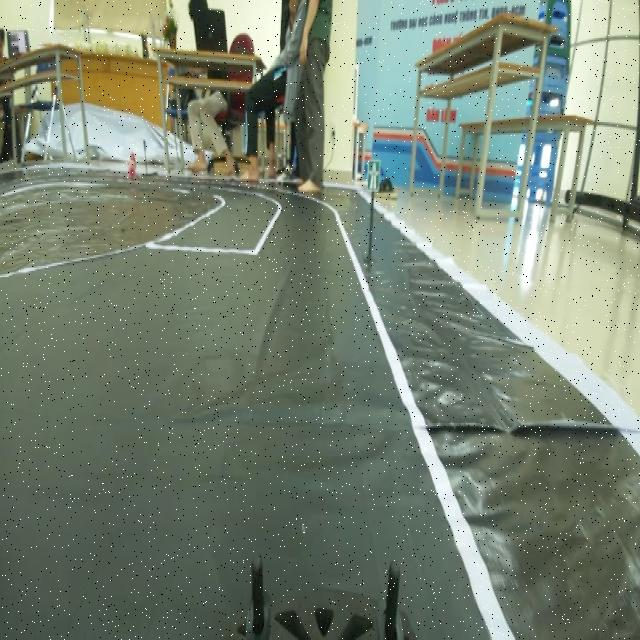highway_entry: (364, 152, 382, 203)
